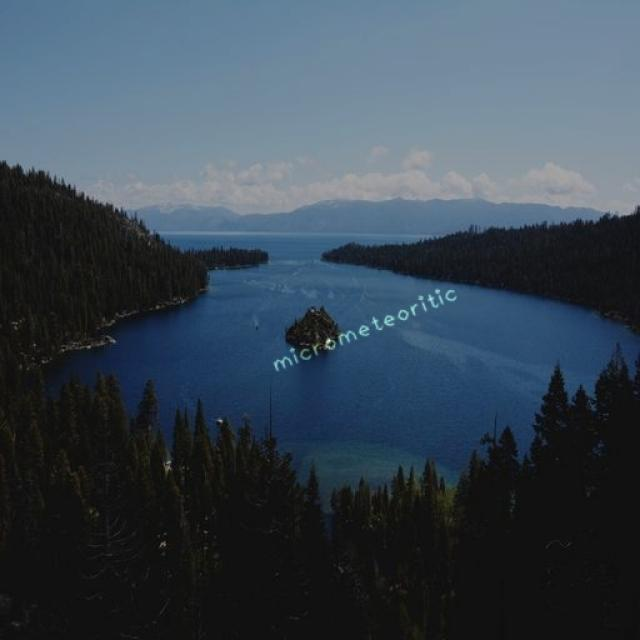watermark: (269, 281, 459, 376)
